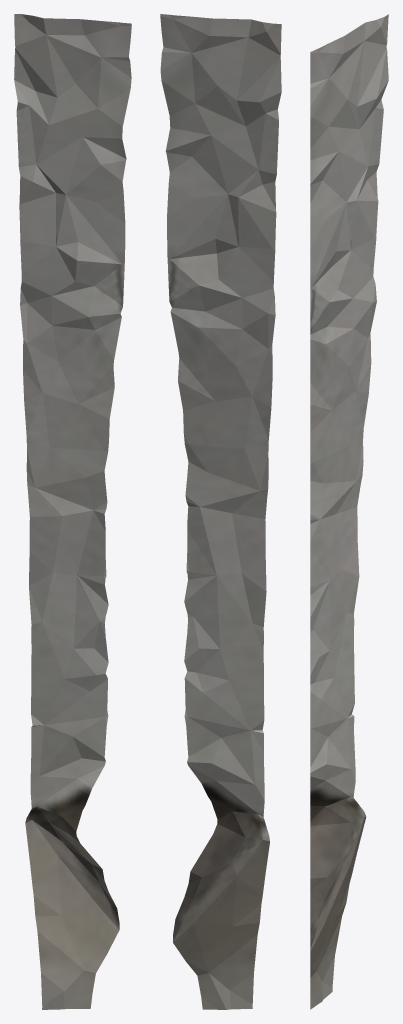
3 views of the same model, side by side, from view 1: azimuth 30°, elevation 25°; view 2: azimuth 210°, elevation 25°; view 3: azimuth 270°, elevation 25° (orthographic). The views are drawn at different scales.
Bounding box in the file's own units: 0.0705 × 0.8374 × 0.0611.
Materials: 1 (1 with a texture image).
